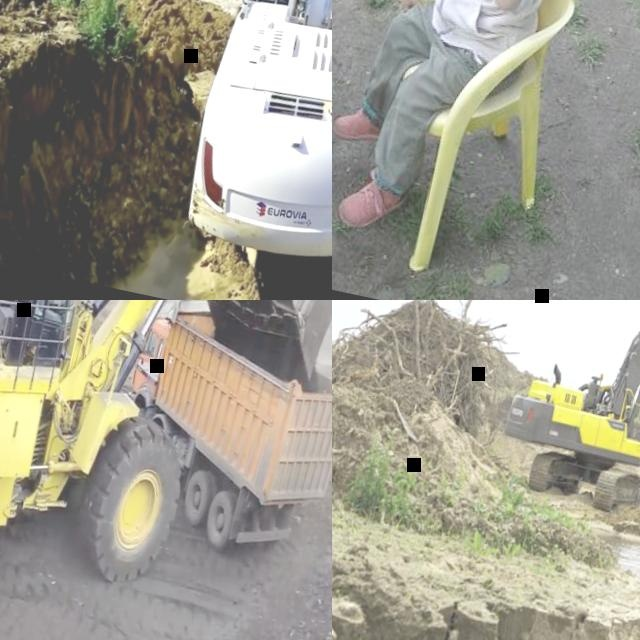NO-Safety Vest: (420, 0, 554, 59)
Person: (332, 0, 595, 261), (27, 300, 74, 338)
machinery: (0, 300, 332, 640), (92, 300, 332, 579), (175, 0, 332, 271), (491, 300, 640, 549)
